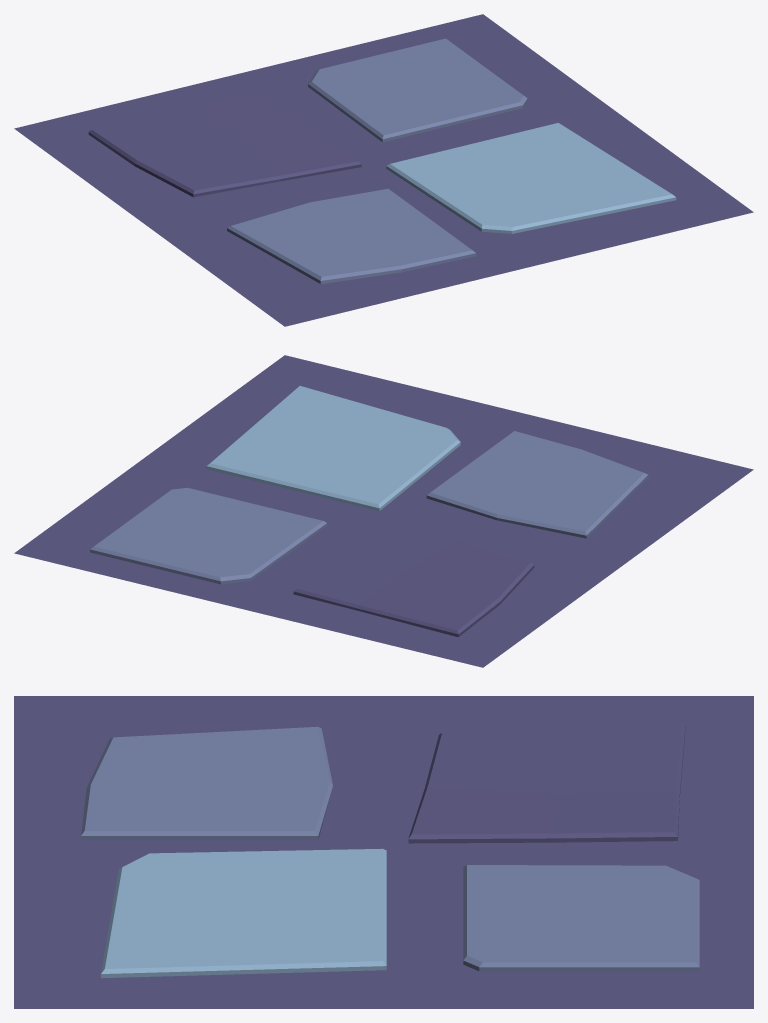
The model's file is Floor_Stones_Big_01.fbx.
The picture shows the model from 3 angles, top to bottom: view 1: azimuth 30°, elevation 25°; view 2: azimuth 150°, elevation 25°; view 3: azimuth 270°, elevation 25°; orthographic projection. The views are drawn at different scales.
Parts seen in each view (by area): view 1: Floor_Stones_Big_01; view 2: Floor_Stones_Big_01; view 3: Floor_Stones_Big_01.
Part boxes in pixels (x1,y1,x2,y2): Floor_Stones_Big_01: (14, 14, 753, 326); Floor_Stones_Big_01: (14, 355, 753, 667); Floor_Stones_Big_01: (14, 696, 753, 1008).
Bounding box in the file's own units: 1000 × 12.82 × 1000.
